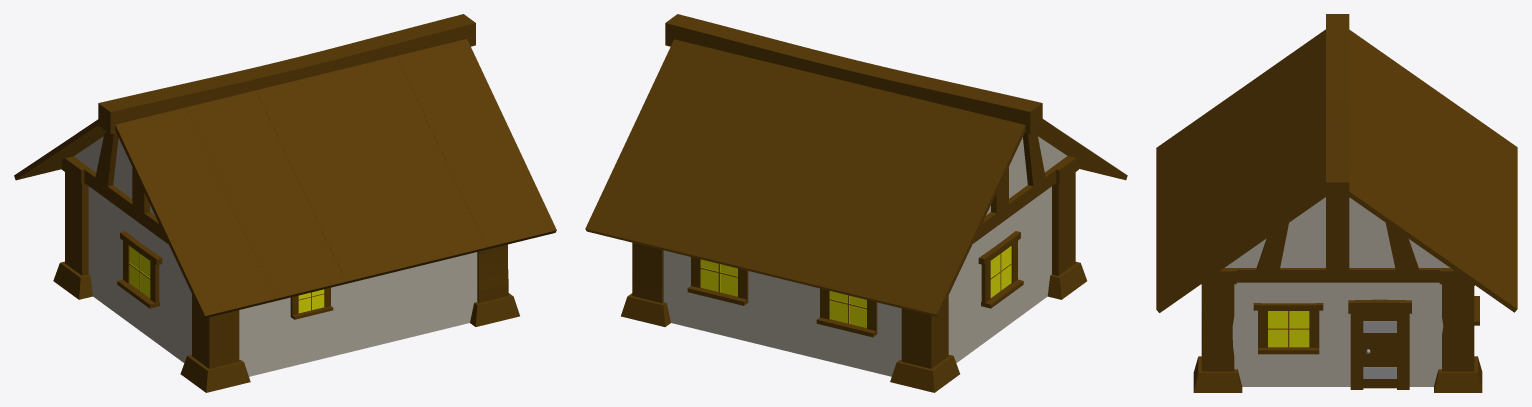
File: HOUSE.fbx
The picture shows the model from 3 angles, left to right: view 1: azimuth 30°, elevation 25°; view 2: azimuth 150°, elevation 25°; view 3: azimuth 270°, elevation 25°; orthographic projection. The views are drawn at different scales.
Visible parts, largest first — view 1: BUILDING.001; view 2: BUILDING.001; view 3: BUILDING.001.
Part boxes in pixels (<box>): BUILDING.001: <box>14,14,556,392</box>; BUILDING.001: <box>585,14,1127,392</box>; BUILDING.001: <box>1156,14,1517,392</box>.
Bounding box in the file's own units: 368 × 227 × 333.
